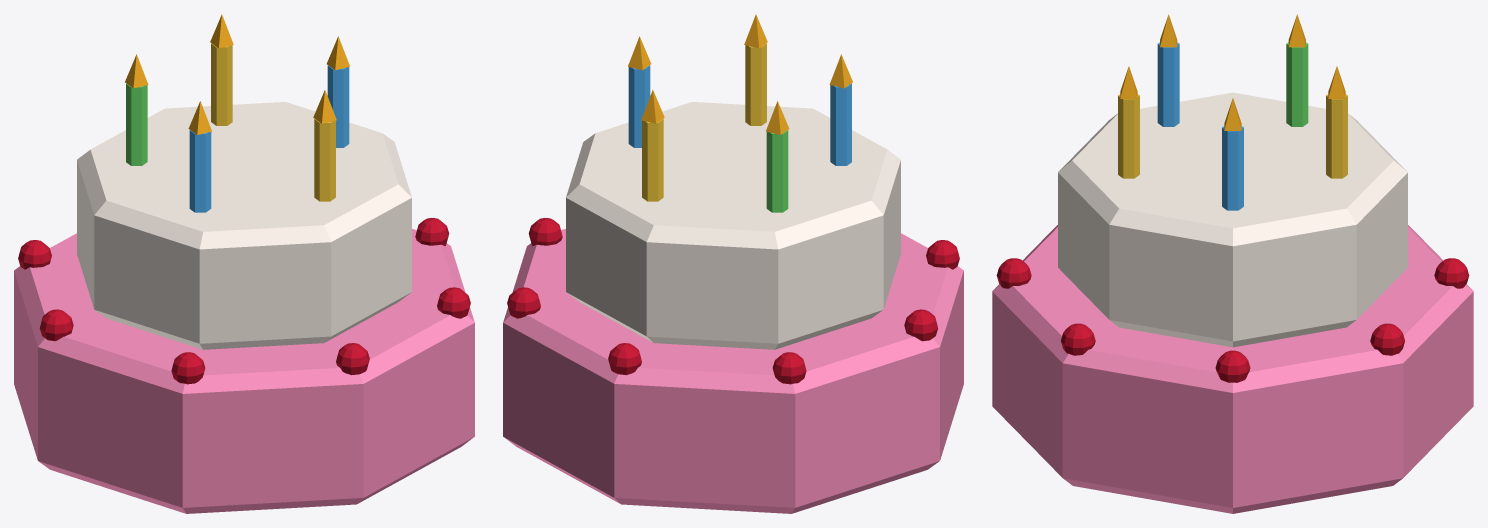
File: BirthdayCake.fbx
3 renders of one model, left to right at view 1: azimuth 30°, elevation 25°; view 2: azimuth 150°, elevation 25°; view 3: azimuth 270°, elevation 25°, orthographic.
Parts seen in each view (by area): view 1: BirthdayCake; view 2: BirthdayCake; view 3: BirthdayCake.
Part boxes in pixels (x1,y1,x2,y2): BirthdayCake: (14, 14, 474, 513); BirthdayCake: (503, 14, 963, 513); BirthdayCake: (992, 14, 1473, 513).
Bounding box in the file's own units: 2.2 × 1.85 × 2.2.
1 material, 1 textured.
